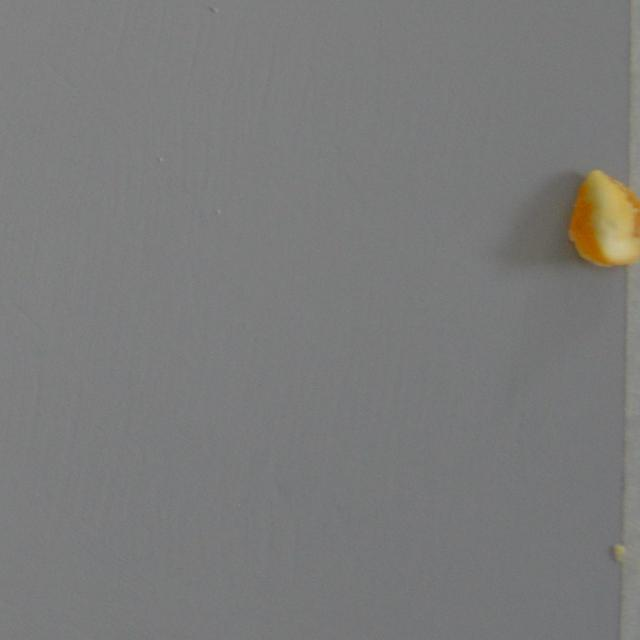pelicula: (568, 168, 640, 269)
